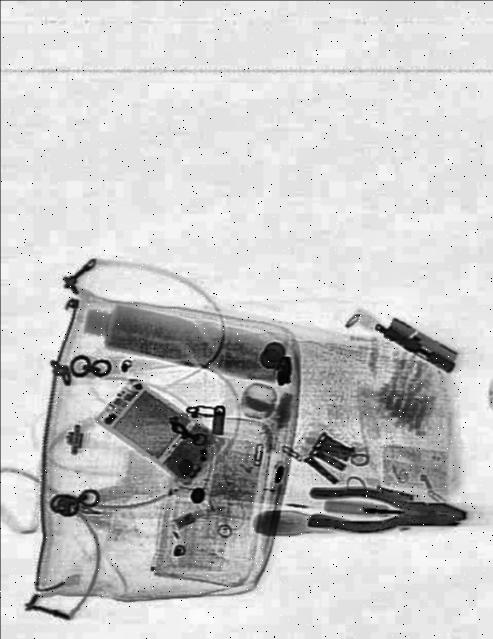Pliers: (306, 484, 466, 538)
